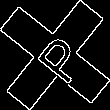P_NW: (24, 25, 86, 85)
